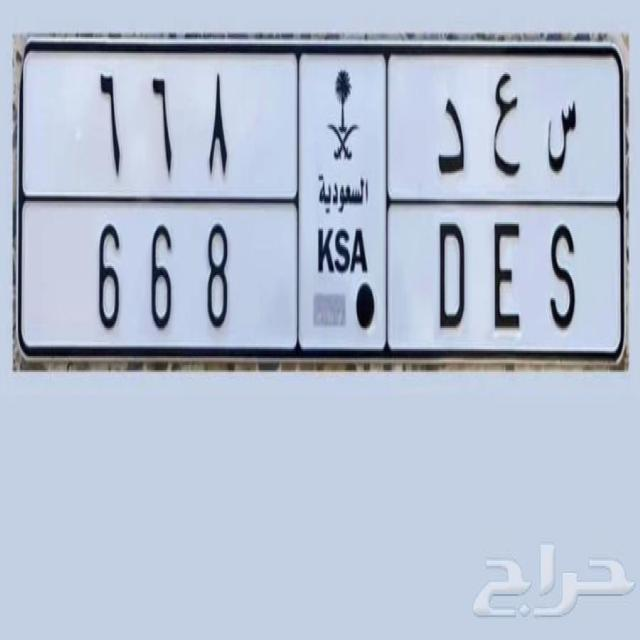license_plate: (20, 195, 627, 369)
